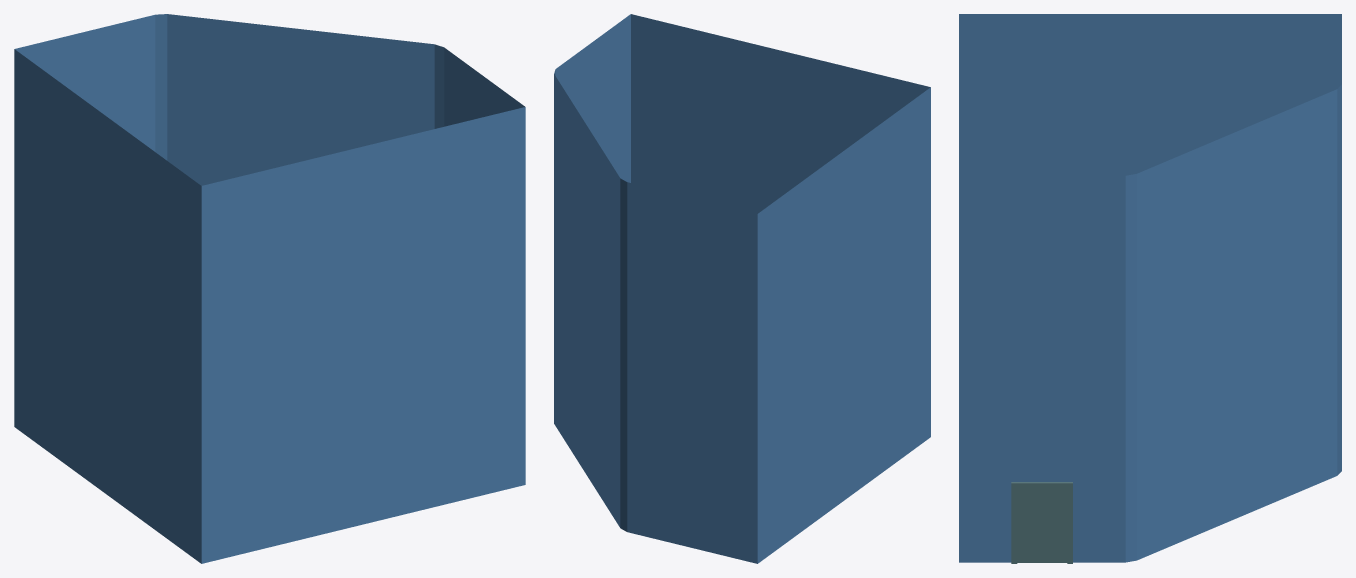
File: Ciudad_Edificio_Esquina_01.FBX
3 views of the same model, side by side, from view 1: azimuth 30°, elevation 25°; view 2: azimuth 150°, elevation 25°; view 3: azimuth 270°, elevation 25° (orthographic). The views are drawn at different scales.
Visible parts, largest first — view 1: Ciudad_Edificio_Esquina_01; view 2: Ciudad_Edificio_Esquina_01; view 3: Ciudad_Edificio_Esquina_01.
Boxes of the visible parts, x1,y1,x2,y2 form: Ciudad_Edificio_Esquina_01: [14, 14, 525, 563]; Ciudad_Edificio_Esquina_01: [554, 14, 930, 563]; Ciudad_Edificio_Esquina_01: [959, 14, 1341, 563].
Size of the model in its own units: 1160 by 1150 by 1282.
